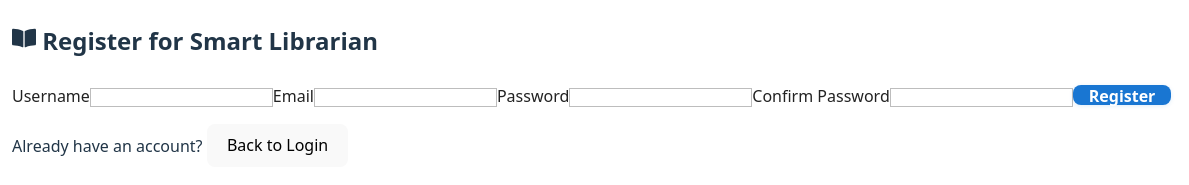
Test case: RegisterPage › shows error if passwords do not match
Type "alice" into the field labelled "Username" at (181, 97), box [90, 88, 273, 107]
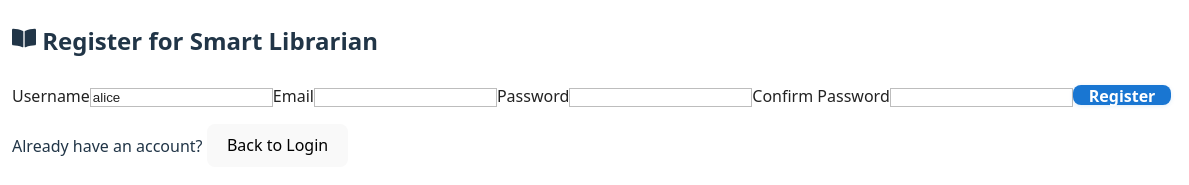
Type "alice@example.com" into the field labelled "Email" at (405, 97), box [314, 88, 497, 107]
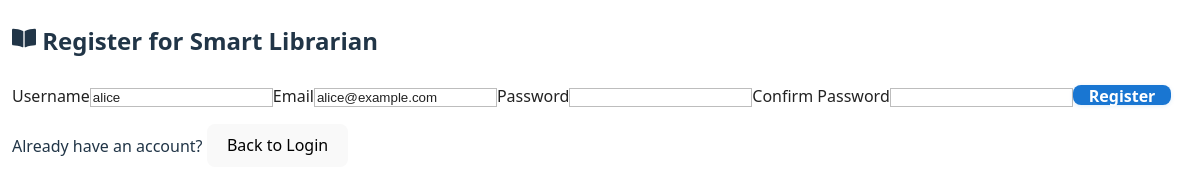
Type "Password123!" into the password field labelled "Password" at (661, 97), box [569, 88, 752, 107]
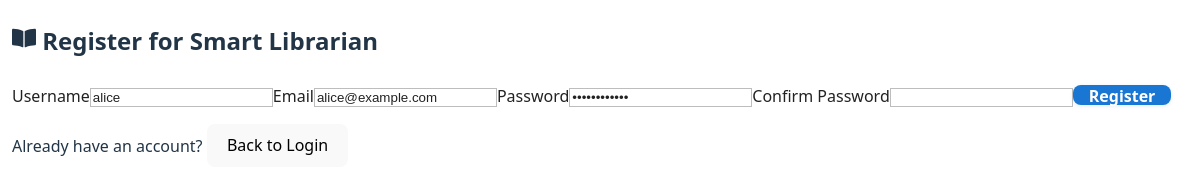
Type "Password456!" into the password field labelled "Confirm Password" at (981, 97), box [890, 88, 1073, 107]
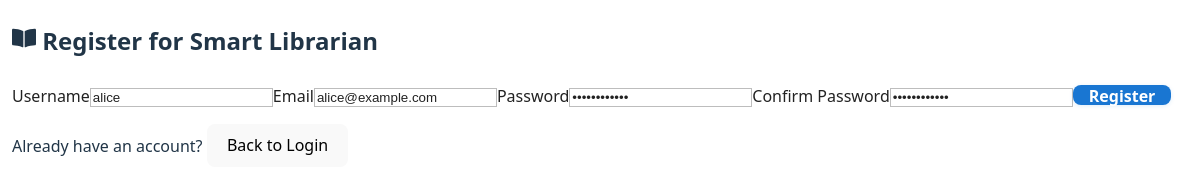
Use getAllByRole for ambiguous Register button
Click the button "Register" at (1122, 95), box [1073, 85, 1171, 105]
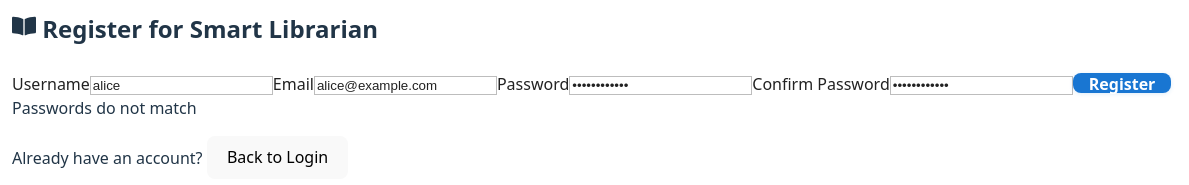
expect the text "Passwords do not match" is shown: met, box [12, 97, 197, 119]
